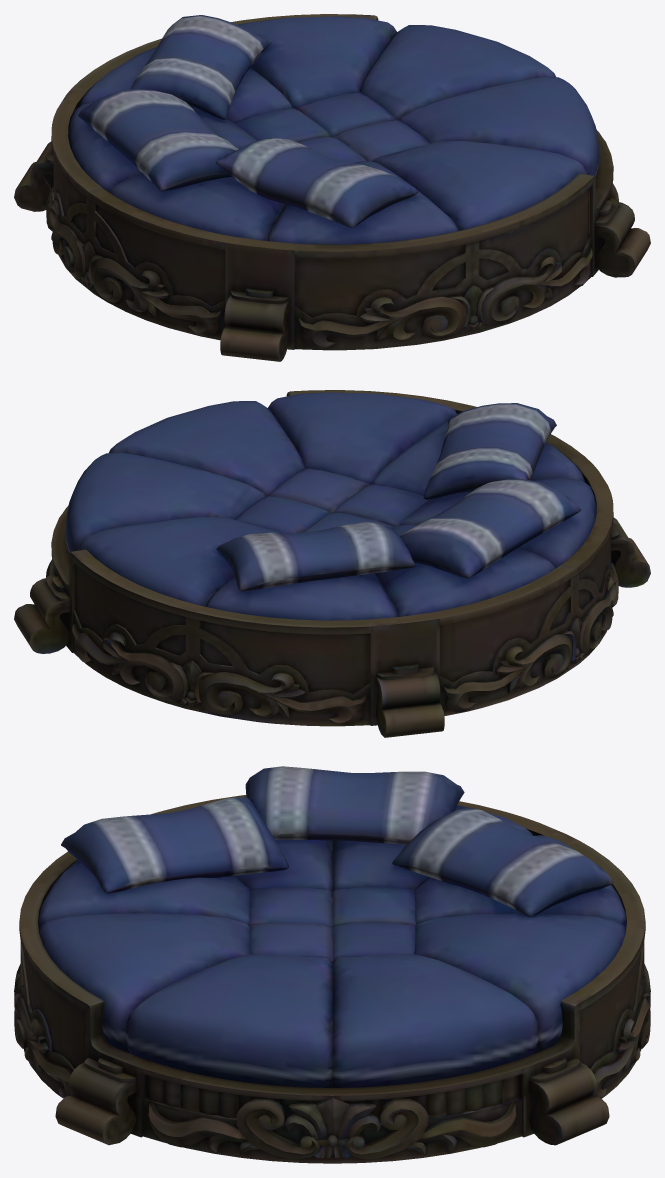
Rendered from SM_PalBedMedievalLarge_bbcc3a.glb.
3 views of the same model, one above another, from view 1: azimuth 30°, elevation 25°; view 2: azimuth 150°, elevation 25°; view 3: azimuth 270°, elevation 25° (orthographic). The views are drawn at different scales.
Size of the model in its own units: 4.27 by 1.23 by 4.26.
1 material, 1 textured.
